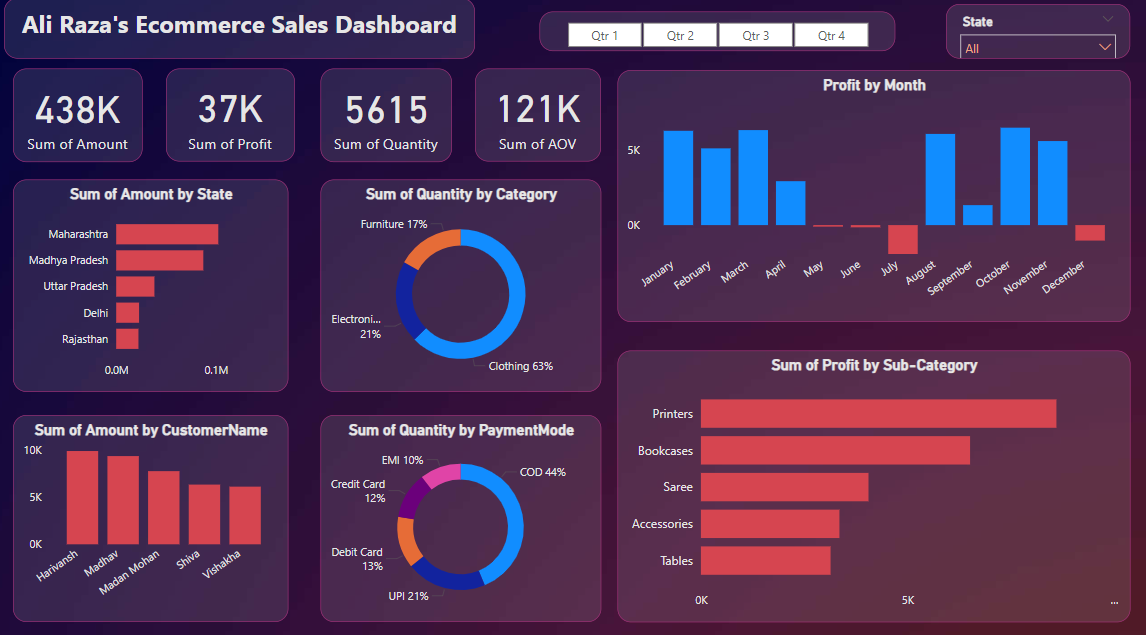

What the dashboard file says about the page in this screenshot:
{"tool":"powerbi","page":{"name":"Page 1","canvas":[1280,720],"ordinal":0},"visuals":[{"type":"textbox","box":[10,0,523.6,67.3],"z":0},{"type":"columnChart","title":"Profit by Month","fields":{"Y":["Sum(Details.Profit)"],"Category":["Orders.Order Date.Variation.Date Hierarchy.Month"]},"box":[692,80,570,280],"z":1000},{"type":"clusteredBarChart","fields":{"Category":["Details.Sub-Category"],"Y":["Sum(Details.Profit)"]},"box":[692,392,570,302],"z":2000},{"type":"donutChart","fields":{"Category":["Details.Category"],"Y":["Sum(Details.Quantity)"]},"box":[362,202,312,236],"z":3000},{"type":"donutChart","fields":{"Y":["Sum(Details.Quantity)"],"Category":["Details.PaymentMode"]},"box":[362,464,312,230],"z":4000},{"type":"card","fields":{"Values":["Sum(Details.Amount)"]},"box":[20,79,144,104],"z":5000},{"type":"card","fields":{"Values":["Sum(Details.Profit)"]},"box":[190,79,143,103],"z":6000},{"type":"card","fields":{"Values":["Sum(Details.Quantity)"]},"box":[362,79,146,104],"z":7000},{"type":"card","fields":{"Values":["Sum(Details.AOV)"]},"box":[534,79,140,103],"z":8000},{"type":"clusteredBarChart","fields":{"Category":["Orders.State"],"Y":["Sum(Details.Amount)"]},"box":[20,202,306,236],"z":9000},{"type":"columnChart","fields":{"Category":["Orders.CustomerName"],"Y":["Sum(Details.Amount)"]},"box":[20,464,306,230],"z":10000},{"type":"slicer","fields":{"Values":["Orders.Order Date.Variation.Date Hierarchy.Quarter"]},"box":[604.2,14.2,395,44.2],"z":10001},{"type":"slicer","fields":{"Values":["Orders.State"]},"box":[1057.3,6.4,204.5,60.9],"z":10002}]}

Visuals, with their boxes in screenshot pixels (x1, y1, x2, y2), scaled from the page's 1280x720 canvas onto the 1146x635 screenshot:
textbox: bbox=[9, 0, 478, 59]
"Profit by Month" columnChart: bbox=[620, 71, 1130, 318]
clusteredBarChart - Details.Sub-Category x Sum(Details.Profit): bbox=[620, 346, 1130, 612]
donutChart - Details.Category x Sum(Details.Quantity): bbox=[324, 178, 603, 386]
donutChart - Sum(Details.Quantity) x Details.PaymentMode: bbox=[324, 409, 603, 612]
card - Sum(Details.Amount): bbox=[18, 70, 147, 161]
card - Sum(Details.Profit): bbox=[170, 70, 298, 161]
card - Sum(Details.Quantity): bbox=[324, 70, 455, 161]
card - Sum(Details.AOV): bbox=[478, 70, 603, 161]
clusteredBarChart - Orders.State x Sum(Details.Amount): bbox=[18, 178, 292, 386]
columnChart - Orders.CustomerName x Sum(Details.Amount): bbox=[18, 409, 292, 612]
slicer - Orders.Order Date.Variation.Date Hierarchy.Quarter: bbox=[541, 13, 895, 52]
slicer - Orders.State: bbox=[947, 6, 1130, 59]
